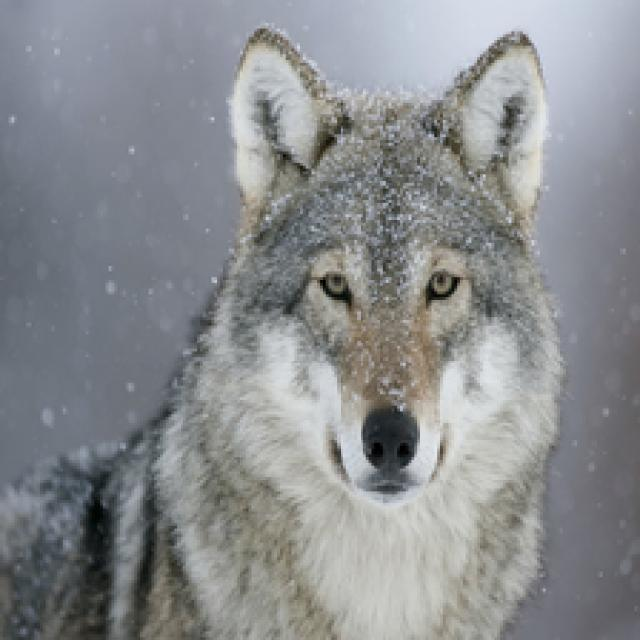wolf: (7, 25, 608, 640)
